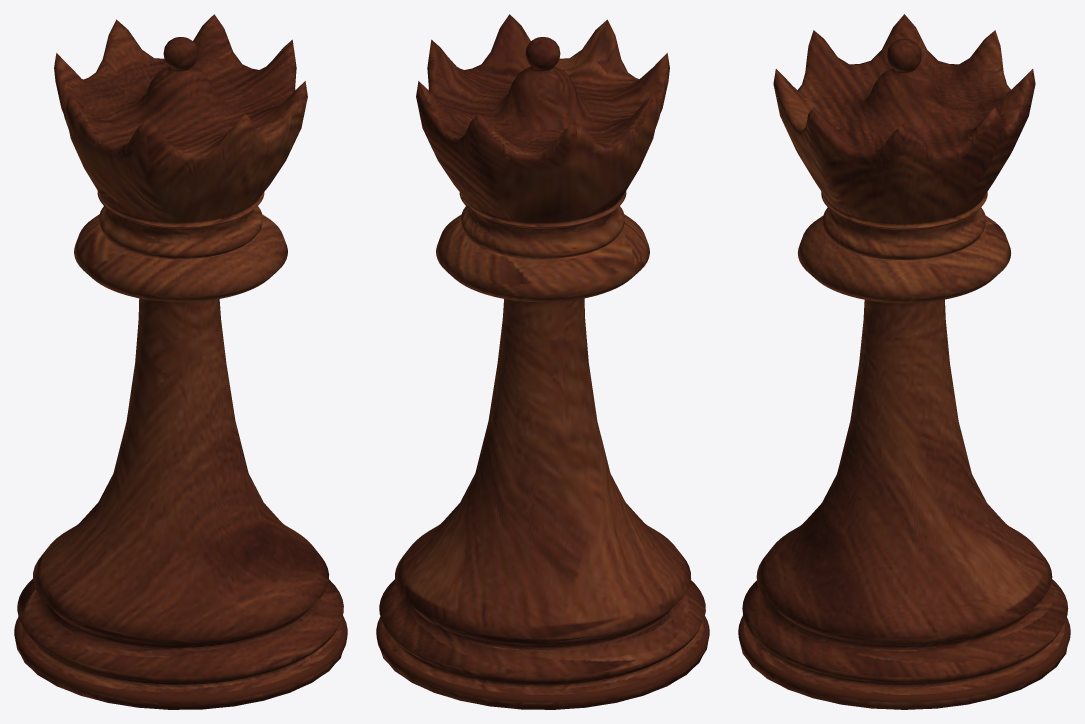
Rendered from queen_black.glb.
The picture shows the model from 3 angles, left to right: view 1: azimuth 30°, elevation 25°; view 2: azimuth 150°, elevation 25°; view 3: azimuth 270°, elevation 25°; orthographic projection.
Parts seen in each view (by area): view 1: Cylinder; view 2: Cylinder; view 3: Cylinder.
Boxes of the visible parts, bbox=[...] form: Cylinder: bbox=[14, 14, 347, 709]; Cylinder: bbox=[376, 14, 709, 709]; Cylinder: bbox=[738, 14, 1070, 709].
Size of the model in its own units: 0.5998 by 1.22 by 0.5998.
Materials: 1 (1 with a texture image).
